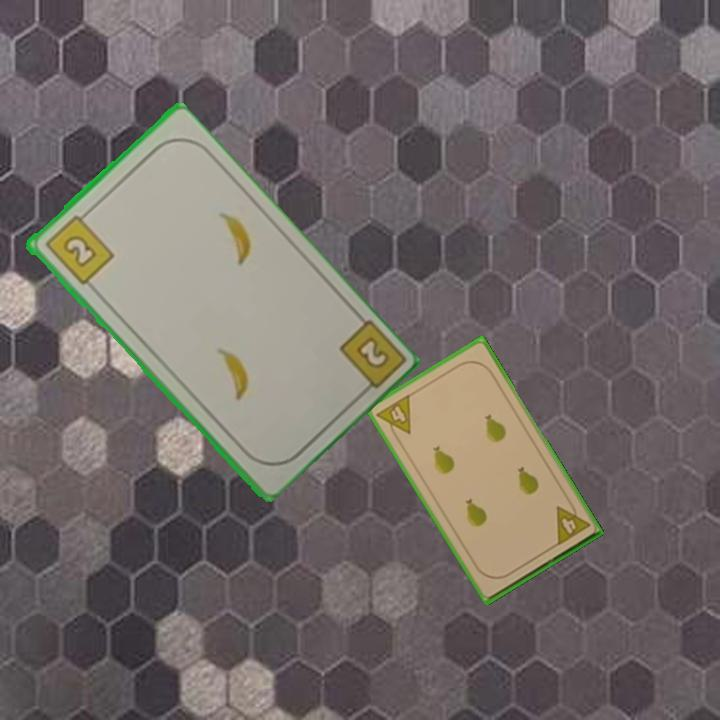2b: (334, 315, 405, 401), (41, 207, 116, 288)
4p: (373, 390, 414, 444), (552, 497, 593, 548)
